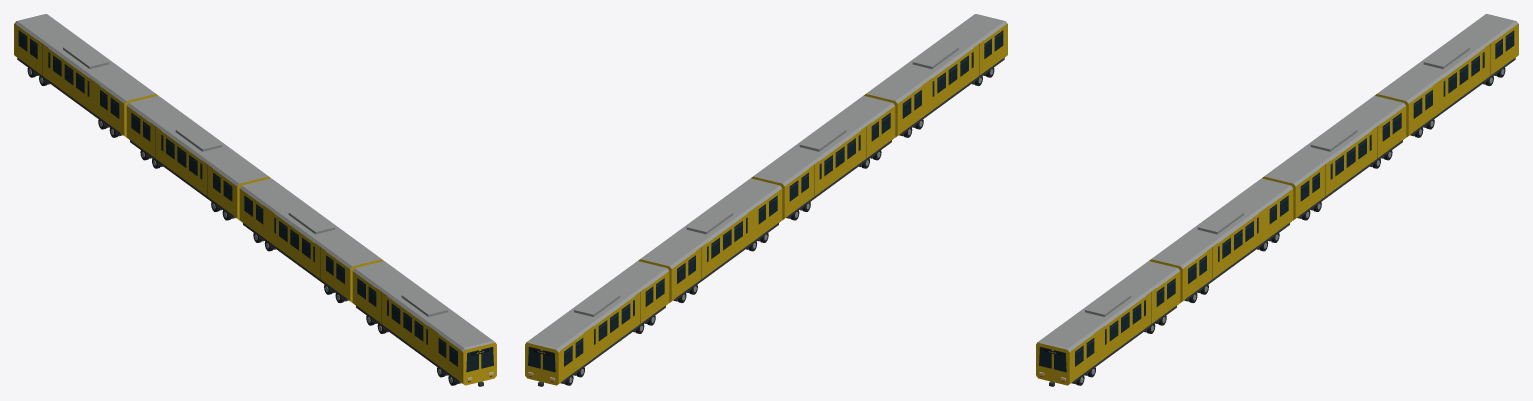
Rendered from ubahn-gi.glb.
3 views of the same model, side by side, from view 1: azimuth 30°, elevation 25°; view 2: azimuth 150°, elevation 25°; view 3: azimuth 330°, elevation 25° (orthographic).
Visible parts, largest first — view 1: ubahn-gi.segment-01.005, ubahn-gi.segment-03.005, ubahn-gi.segment-02.005, ubahn-gi.segment-04.005; view 2: ubahn-gi.segment-04.005, ubahn-gi.segment-02.005, ubahn-gi.segment-03.005, ubahn-gi.segment-01.005; view 3: ubahn-gi.segment-01.005, ubahn-gi.segment-03.005, ubahn-gi.segment-02.005, ubahn-gi.segment-04.005.
Part boxes in pixels (x1,y1,x2,y2): ubahn-gi.segment-01.005: (352, 261, 496, 386); ubahn-gi.segment-03.005: (126, 95, 270, 220); ubahn-gi.segment-02.005: (239, 178, 383, 302); ubahn-gi.segment-04.005: (14, 14, 157, 137); ubahn-gi.segment-04.005: (525, 261, 669, 386); ubahn-gi.segment-02.005: (751, 95, 895, 220); ubahn-gi.segment-03.005: (638, 178, 782, 302); ubahn-gi.segment-01.005: (864, 14, 1007, 137); ubahn-gi.segment-01.005: (1036, 261, 1180, 386); ubahn-gi.segment-03.005: (1262, 95, 1406, 220); ubahn-gi.segment-02.005: (1149, 178, 1293, 302); ubahn-gi.segment-04.005: (1375, 14, 1518, 137).
Size of the model in its own units: 2.31 by 3.13 by 52.14.
